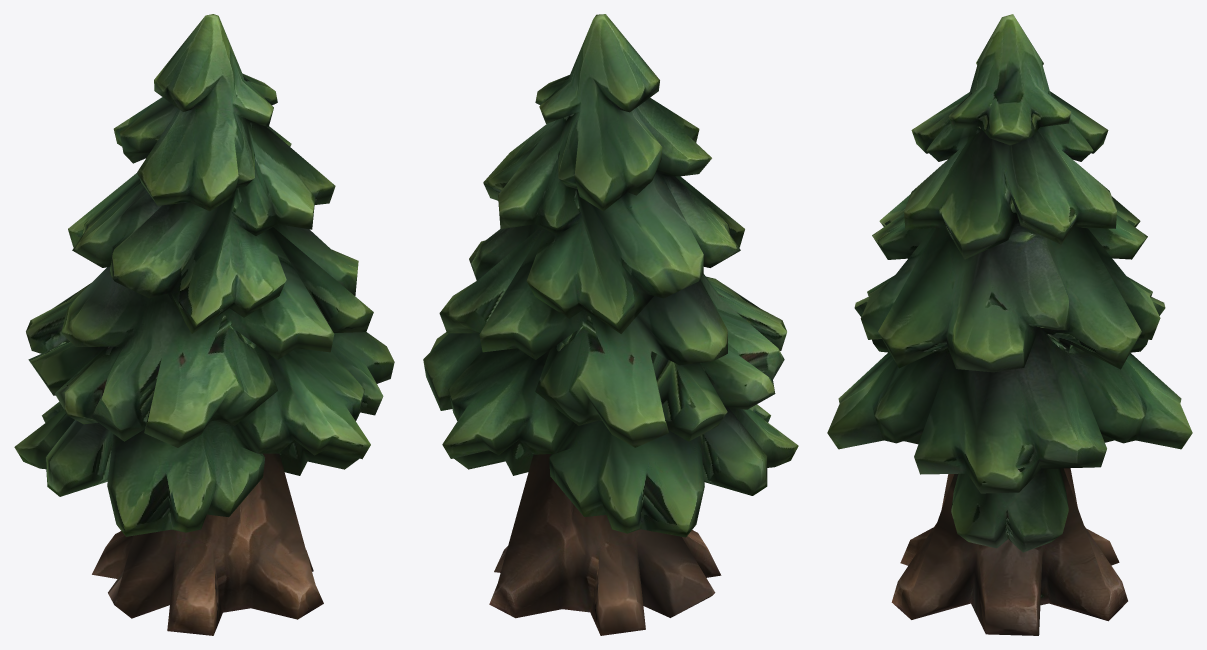
The model's file is LL_Pine.fbx.
3 views of the same model, side by side, from view 1: azimuth 30°, elevation 25°; view 2: azimuth 150°, elevation 25°; view 3: azimuth 270°, elevation 25° (orthographic).
Parts seen in each view (by area): view 1: tripo_node_b056b50f; view 2: tripo_node_b056b50f; view 3: tripo_node_b056b50f.
Boxes of the visible parts, bbox=[...] form: tripo_node_b056b50f: bbox=[14, 14, 394, 635]; tripo_node_b056b50f: bbox=[423, 14, 798, 635]; tripo_node_b056b50f: bbox=[827, 14, 1192, 635].
Size of the model in its own units: 59.72 by 56.65 by 98.13.
1 material, 1 textured.
